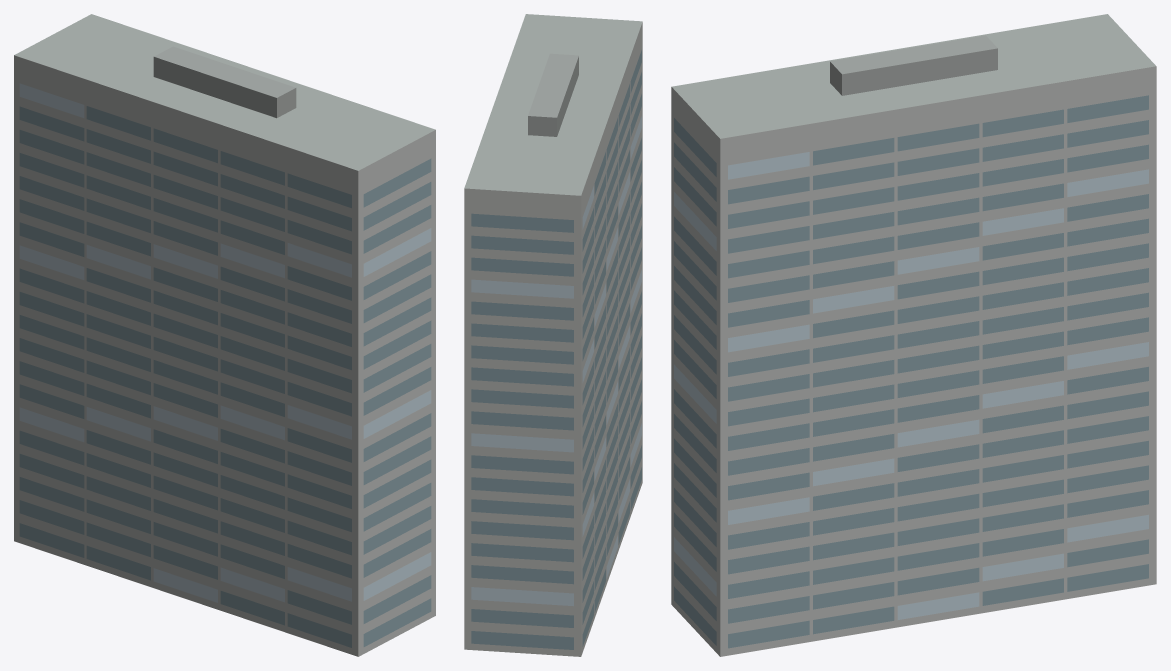
The model's file is fallback-songpa-helio-city-310.glb.
3 views of the same model, side by side, from view 1: azimuth 30°, elevation 25°; view 2: azimuth 150°, elevation 25°; view 3: azimuth 270°, elevation 25° (orthographic). The views are drawn at different scales.
Visible parts, largest first — view 1: fallback-songpa-helio-city-310; view 2: fallback-songpa-helio-city-310; view 3: fallback-songpa-helio-city-310.
Part boxes in pixels (left/top/right/bottom): fallback-songpa-helio-city-310: left=14, top=14, right=435, bottom=656; fallback-songpa-helio-city-310: left=464, top=14, right=642, bottom=656; fallback-songpa-helio-city-310: left=671, top=14, right=1156, bottom=656.
Size of the model in its own units: 29.78 by 60 by 48.87.
